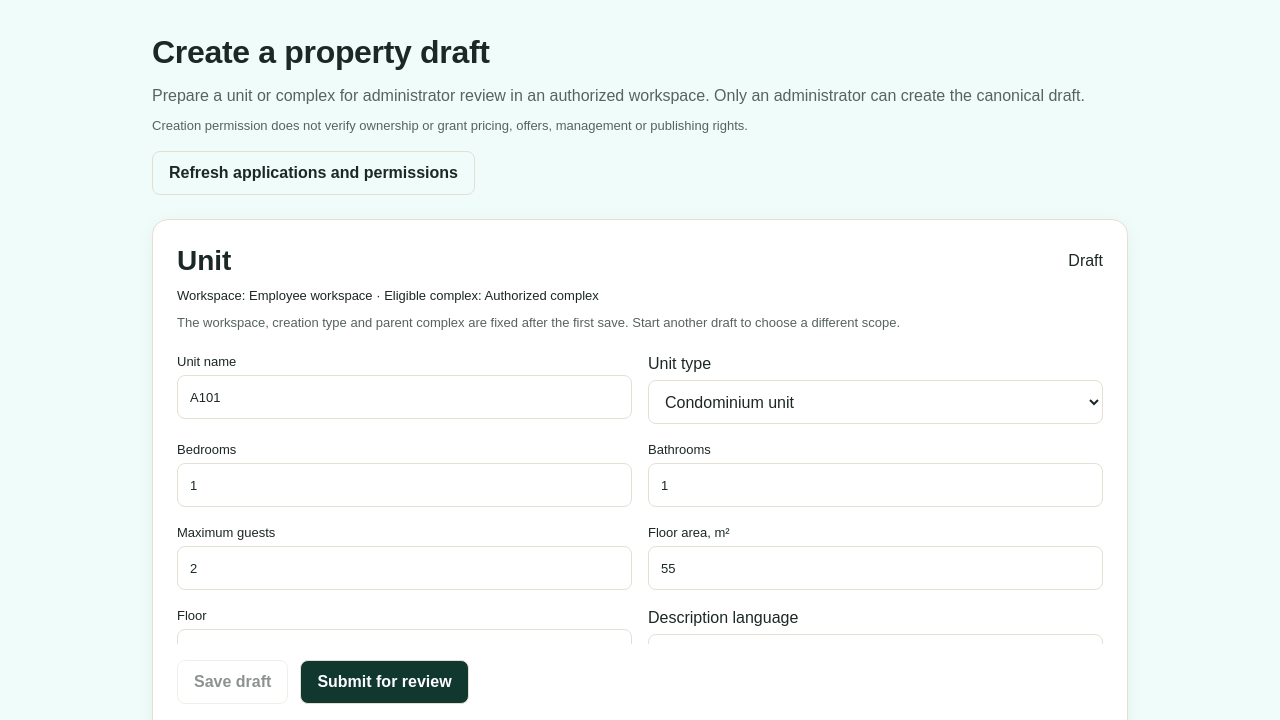
it: preserves a loaded intake unit match without granting an existing-record edit control
Replace the text in the field labelled "Unit name" with "New descriptive name": [404, 397] box [177,375,632,419]
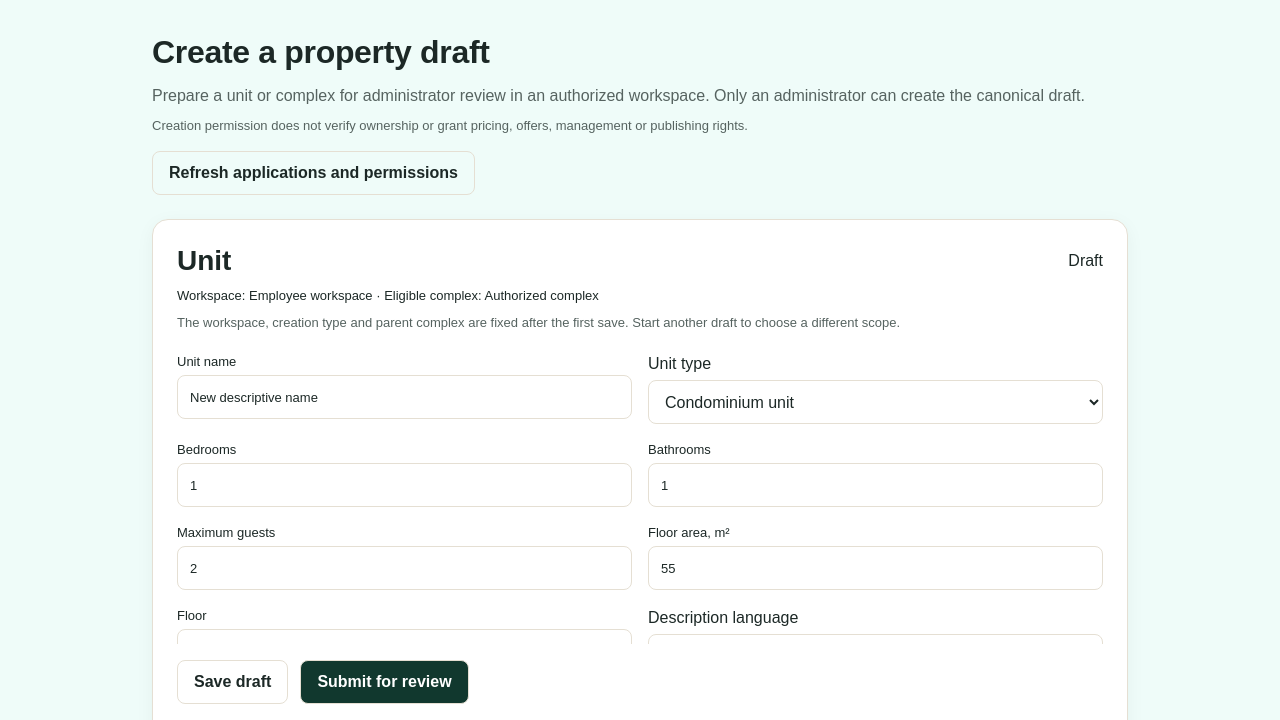
Click the button "Save draft": [233, 682] box [177,660,288,704]
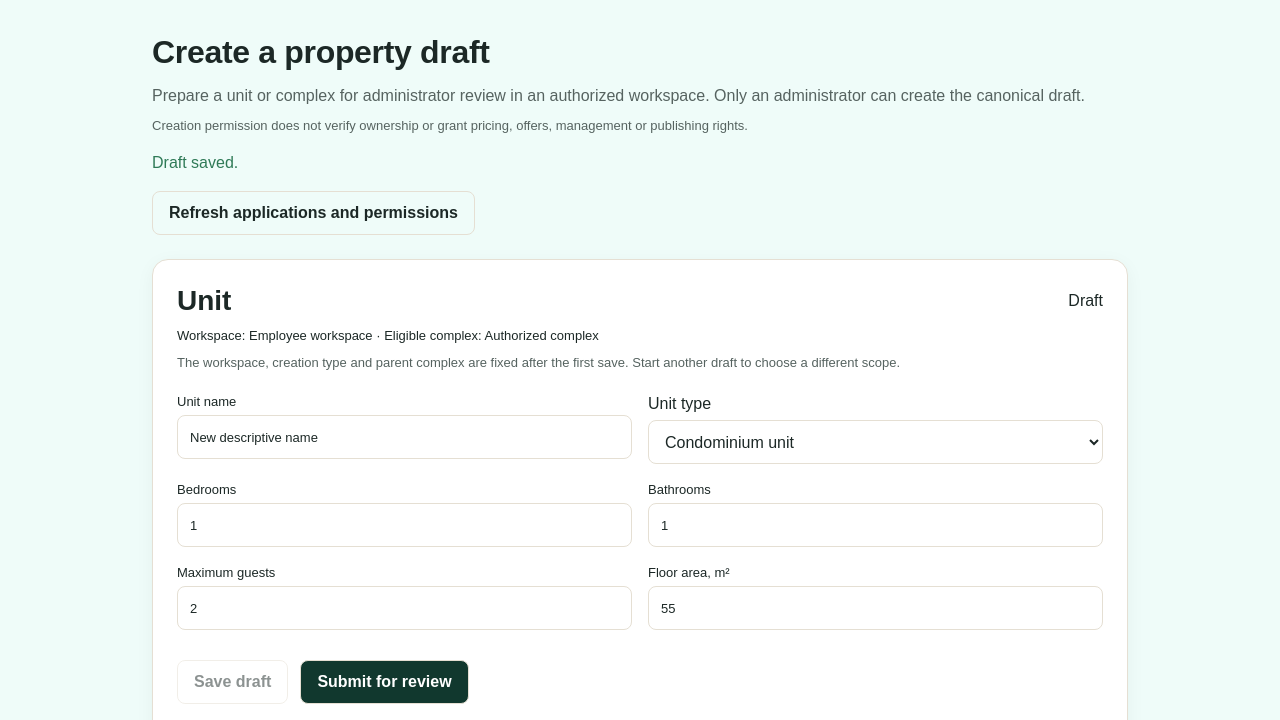
Now the text "Draft saved." is shown, box [152,154,238,171]
